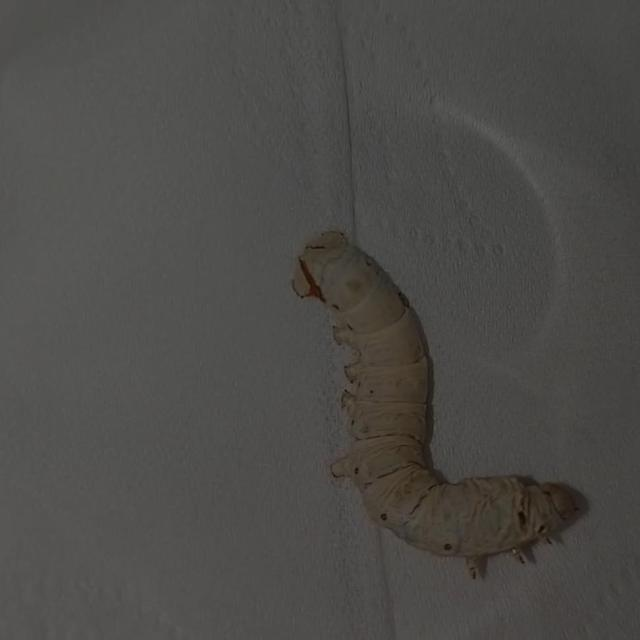Healthy: (281, 211, 602, 601)
